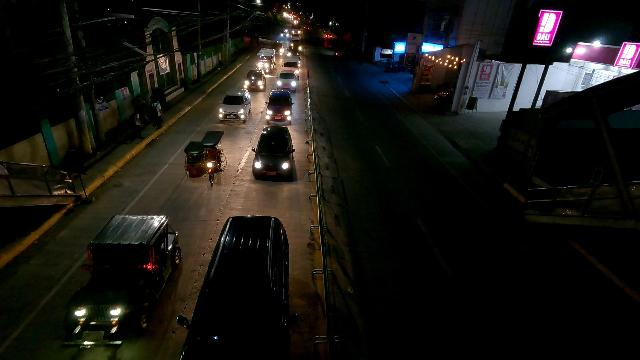car: (181, 216, 290, 359), (252, 126, 295, 180), (218, 89, 251, 122), (265, 89, 293, 124), (276, 70, 299, 92), (244, 69, 266, 90), (282, 56, 301, 72)
jeepney: (63, 215, 181, 340), (256, 47, 275, 72)
